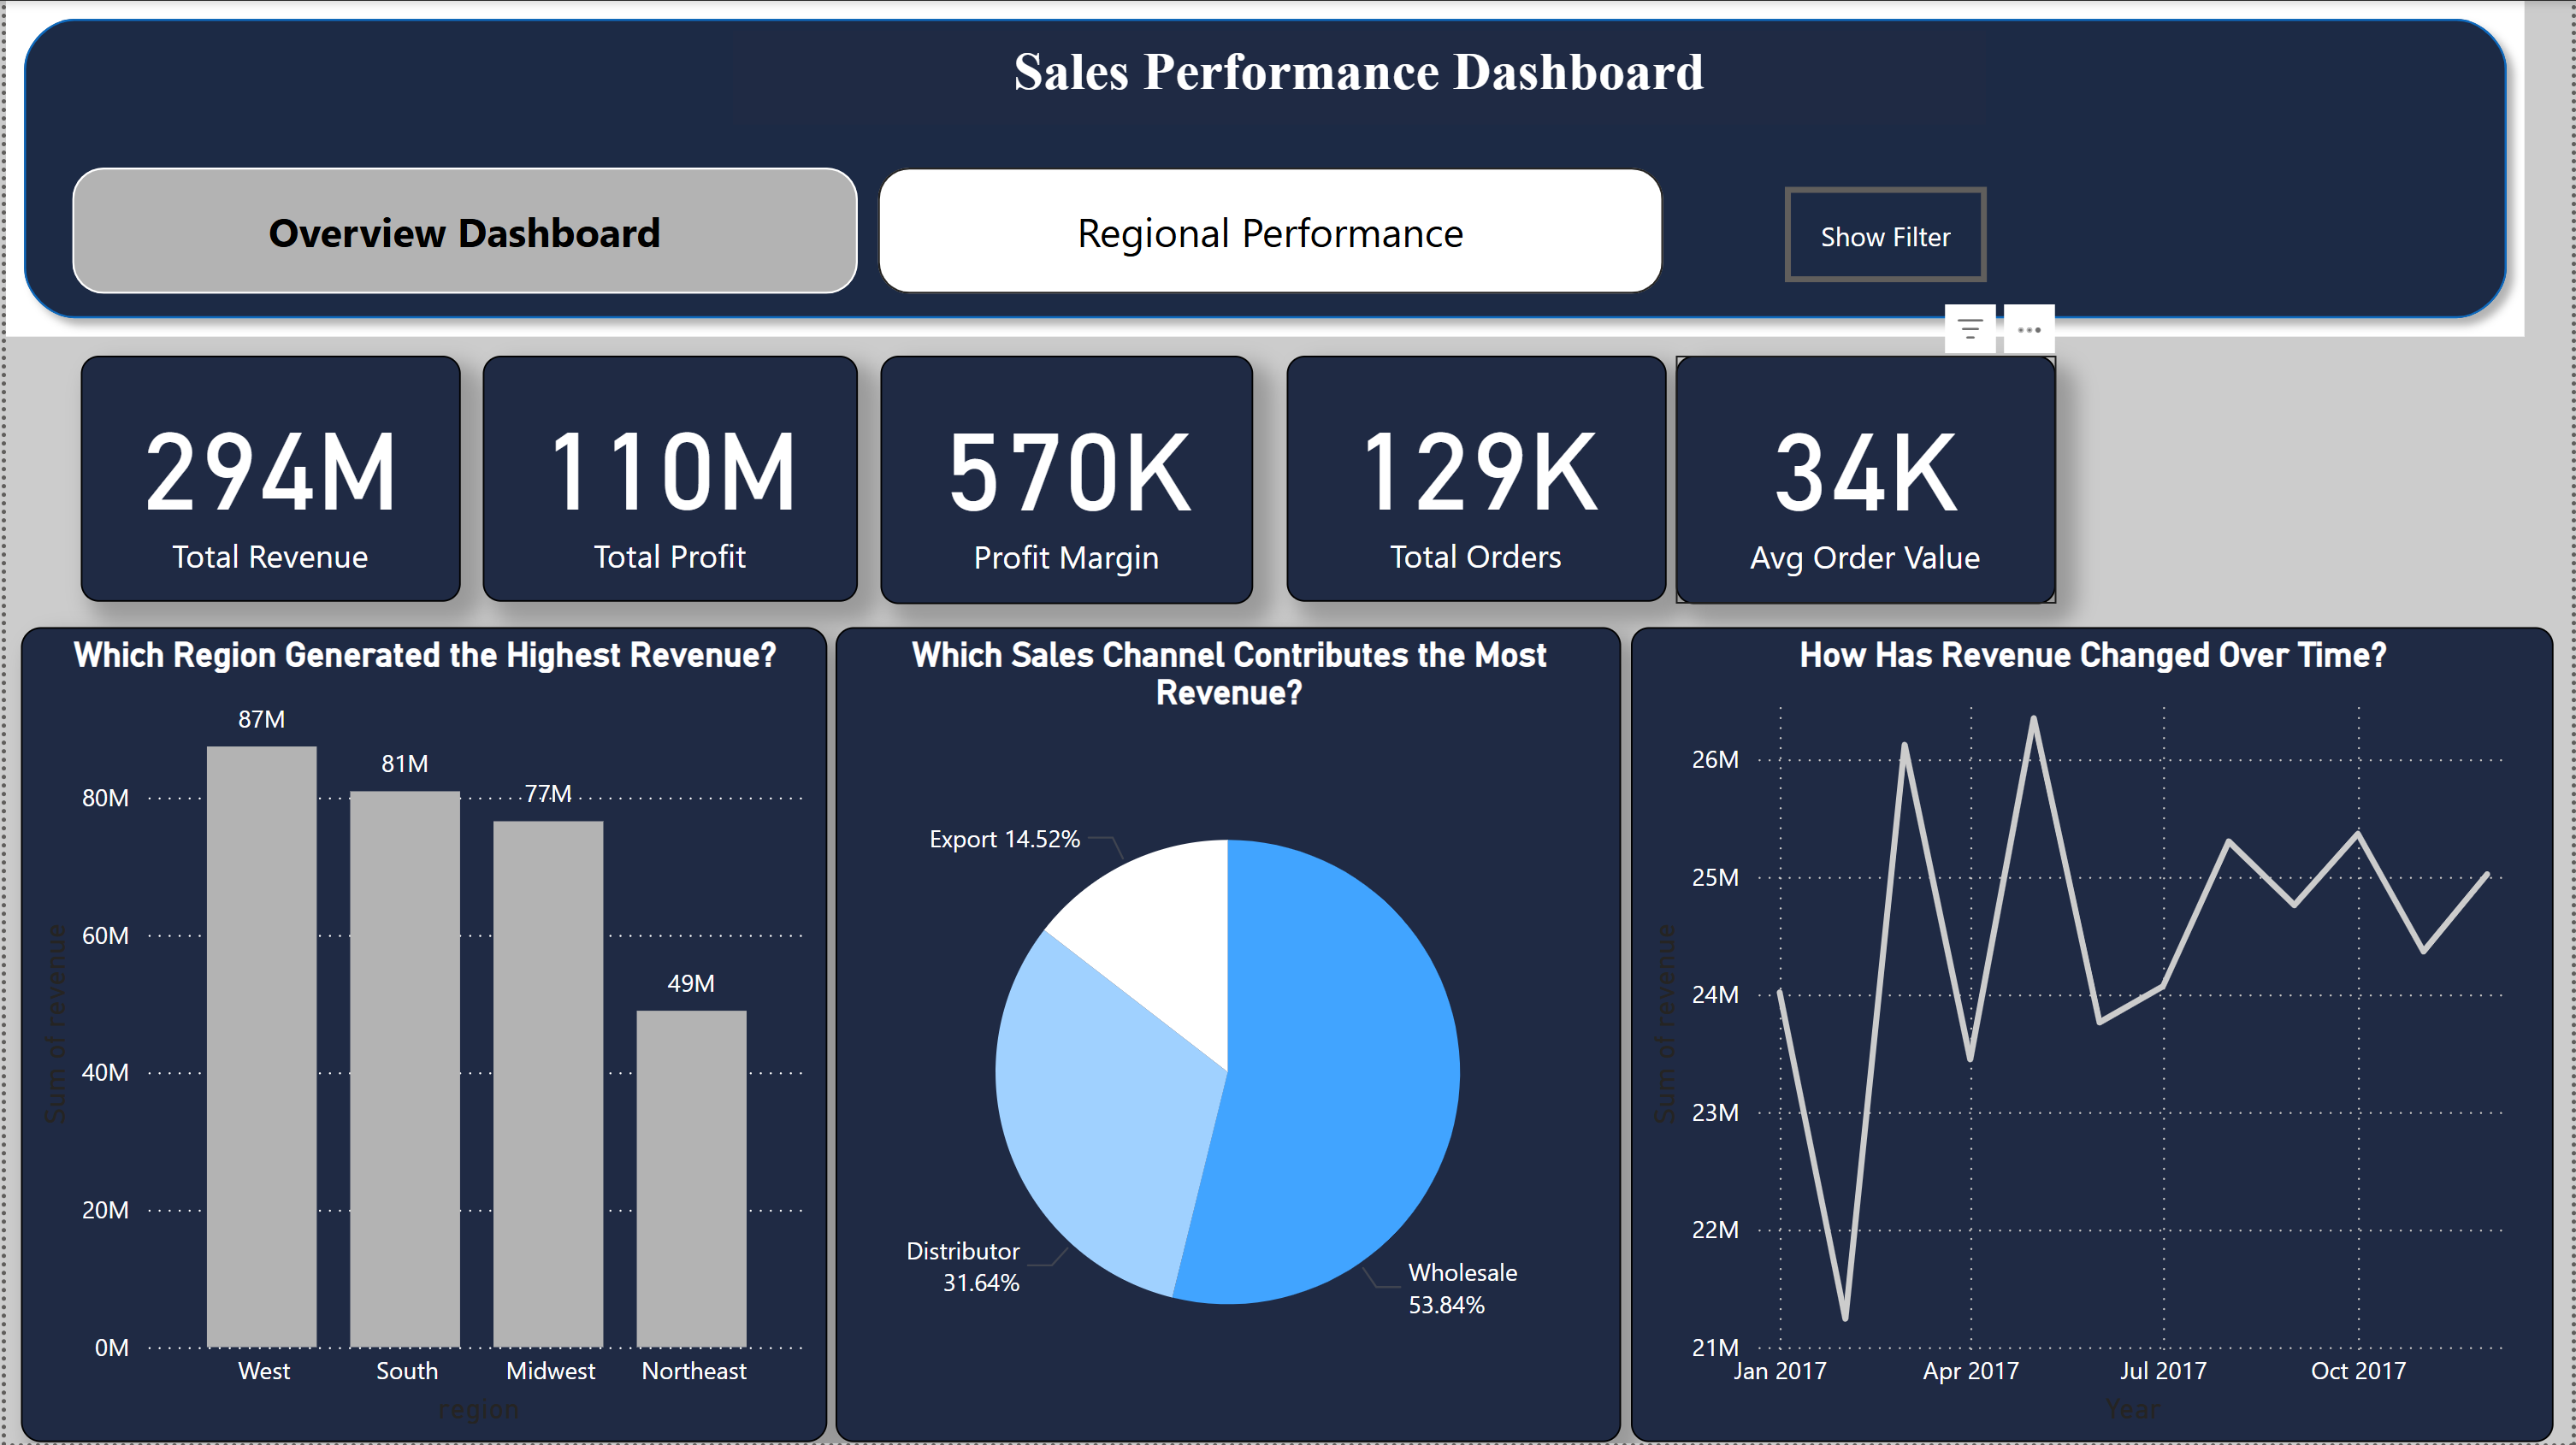

What the dashboard file says about the page in this screenshot:
{"tool":"powerbi","page":{"name":"Overview Dashboard","canvas":[1280,720],"ordinal":0},"visuals":[{"type":"shape","title":"Sales Performance Dashboard","box":[0,0,1256.9,167.4],"z":0},{"type":"pageNavigator","box":[33,83.7,795.3,63.4],"z":1000},{"type":"card","fields":{"Values":["Sum(final_cleaned_dataset (1).revenue)"]},"box":[37.7,177.3,189.5,123],"z":2000},{"type":"card","fields":{"Values":["Sum(final_cleaned_dataset (1).profit)"]},"box":[238.2,177.3,187.3,123],"z":3000},{"type":"card","fields":{"Values":["Sum(final_cleaned_dataset (1).profit_margin_pct)"]},"box":[436.6,177.3,186.2,124.1],"z":4000},{"type":"card","fields":{"Values":["Sum(final_cleaned_dataset (1).order_quantity)"]},"box":[639.3,177.3,189.5,123],"z":5000},{"type":"card","fields":{"Values":["final_cleaned_dataset (1).Avg Order Value"]},"box":[833.3,177.3,189.5,124.1],"z":6000},{"type":"clusteredColumnChart","title":"Which Region Generated the Highest Revenue?","fields":{"Category":["final_cleaned_dataset (1).region"],"Y":["Sum(final_cleaned_dataset (1).revenue)"]},"box":[7,312.8,402.3,407],"z":7000},{"type":"pieChart","title":"Which Sales Channel Contributes the Most Revenue?","fields":{"Category":["final_cleaned_dataset (1).channel"],"Y":["Sum(final_cleaned_dataset (1).revenue)"]},"box":[414,312.8,391.9,407],"z":8000},{"type":"lineChart","title":"How Has Revenue Changed Over Time?","fields":{"Y":["Sum(final_cleaned_dataset (1).revenue)"],"Category":["final_cleaned_dataset (1).order_date.Variation.Date Hierarchy.Year","final_cleaned_dataset (1).order_date.Variation.Date Hierarchy.Quarter","final_cleaned_dataset (1).order_date.Variation.Date Hierarchy.Month","final_cleaned_dataset (1).order_date.Variation.Date Hierarchy.Day"]},"box":[810.5,312.8,460.5,407],"z":9000},{"type":"actionButton","title":"Show Filter","box":[887.5,93.1,100.8,47.6],"z":13000},{"type":"textbox","box":[362.7,15.2,625.3,46.9],"z":13001}]}

Visuals, with their boxes in screenshot pixels (x1, y1, x2, y2), scaled from the page's 1280x720 canvas onto the 2576x1445 screenshot:
"Sales Performance Dashboard" shape: locate(0, 0, 2530, 336)
pageNavigator: locate(67, 168, 1667, 295)
card - Sum(final_cleaned_dataset (1).revenue): locate(76, 356, 458, 603)
card - Sum(final_cleaned_dataset (1).profit): locate(480, 356, 856, 603)
card - Sum(final_cleaned_dataset (1).profit_margin_pct): locate(878, 356, 1254, 605)
card - Sum(final_cleaned_dataset (1).order_quantity): locate(1286, 356, 1668, 603)
card - final_cleaned_dataset (1).Avg Order Value: locate(1677, 356, 2059, 605)
"Which Region Generated the Highest Revenue?" clusteredColumnChart: locate(14, 628, 824, 1444)
"Which Sales Channel Contributes the Most Revenue?" pieChart: locate(833, 628, 1622, 1444)
"How Has Revenue Changed Over Time?" lineChart: locate(1631, 628, 2558, 1444)
"Show Filter" actionButton: locate(1786, 187, 1989, 282)
textbox: locate(730, 31, 1988, 125)
